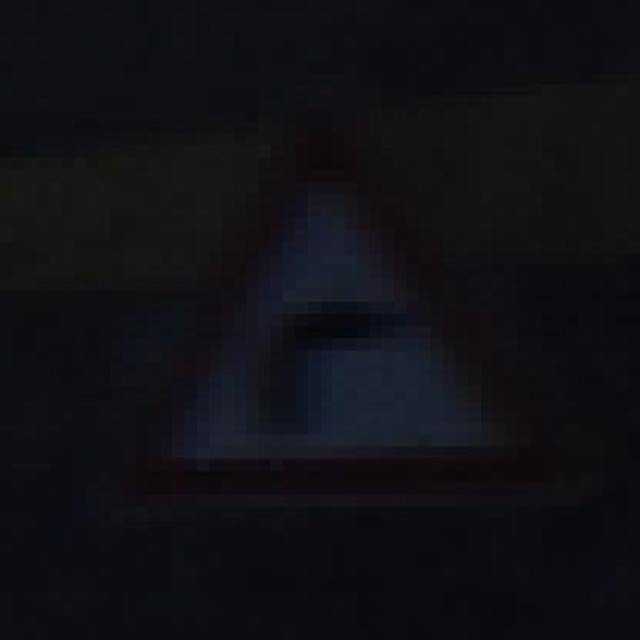Dangerous Rright Curve Ahead: (136, 72, 566, 520)
